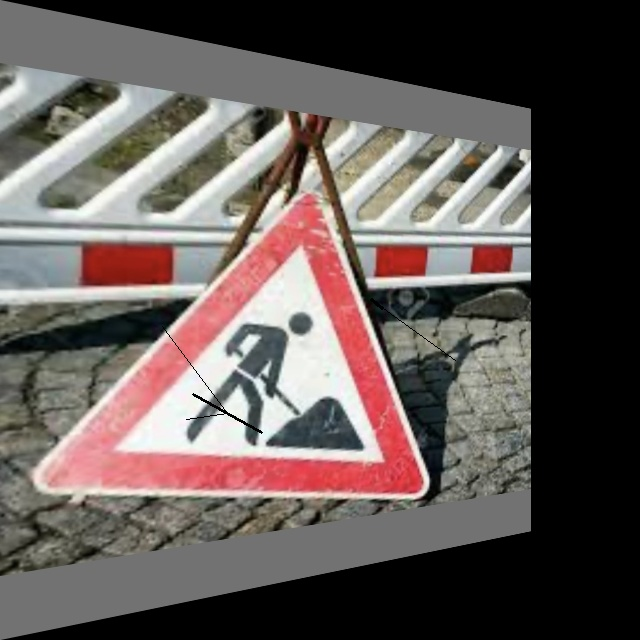Men_at_Work: (97, 182, 431, 548)
